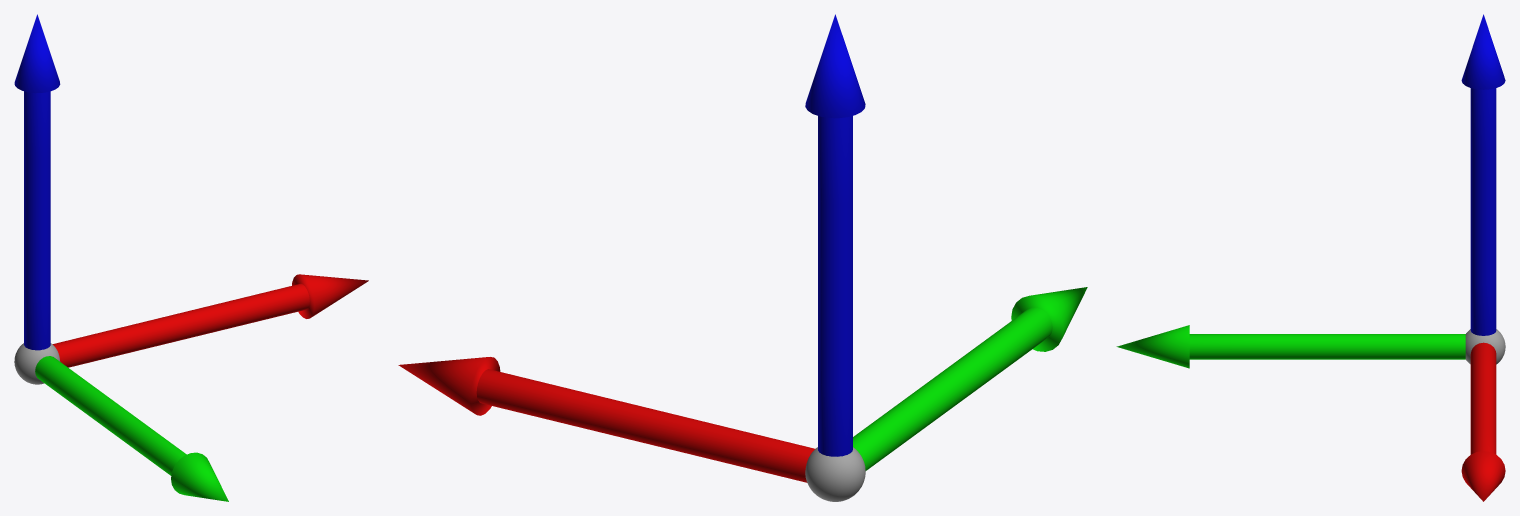
The model's file is frame.glb.
The picture shows the model from 3 angles, left to right: view 1: azimuth 30°, elevation 25°; view 2: azimuth 150°, elevation 25°; view 3: azimuth 270°, elevation 25°; orthographic projection. The views are drawn at different scales.
Size of the model in its own units: 1.06 by 1.06 by 1.06.
